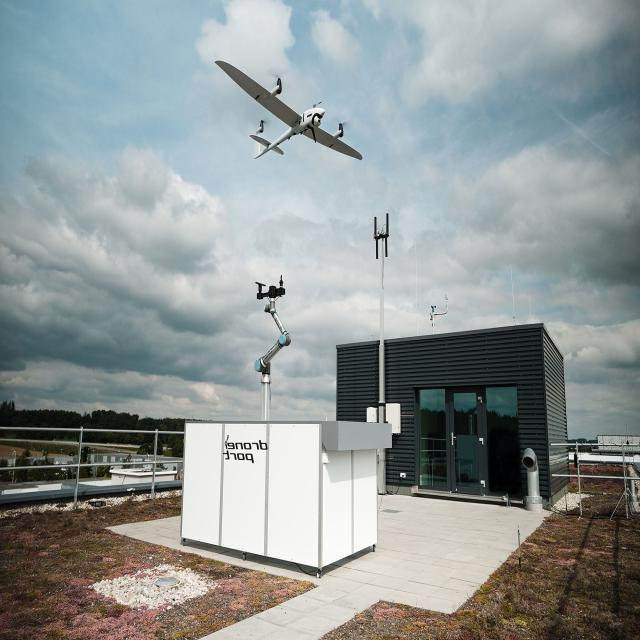iha: (214, 0, 387, 118)
